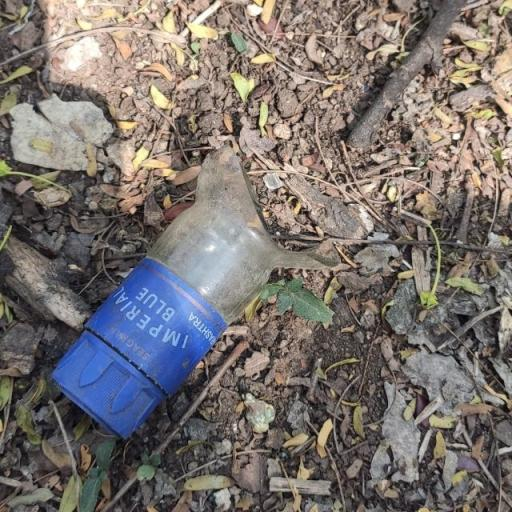glass: (40, 132, 338, 446)
